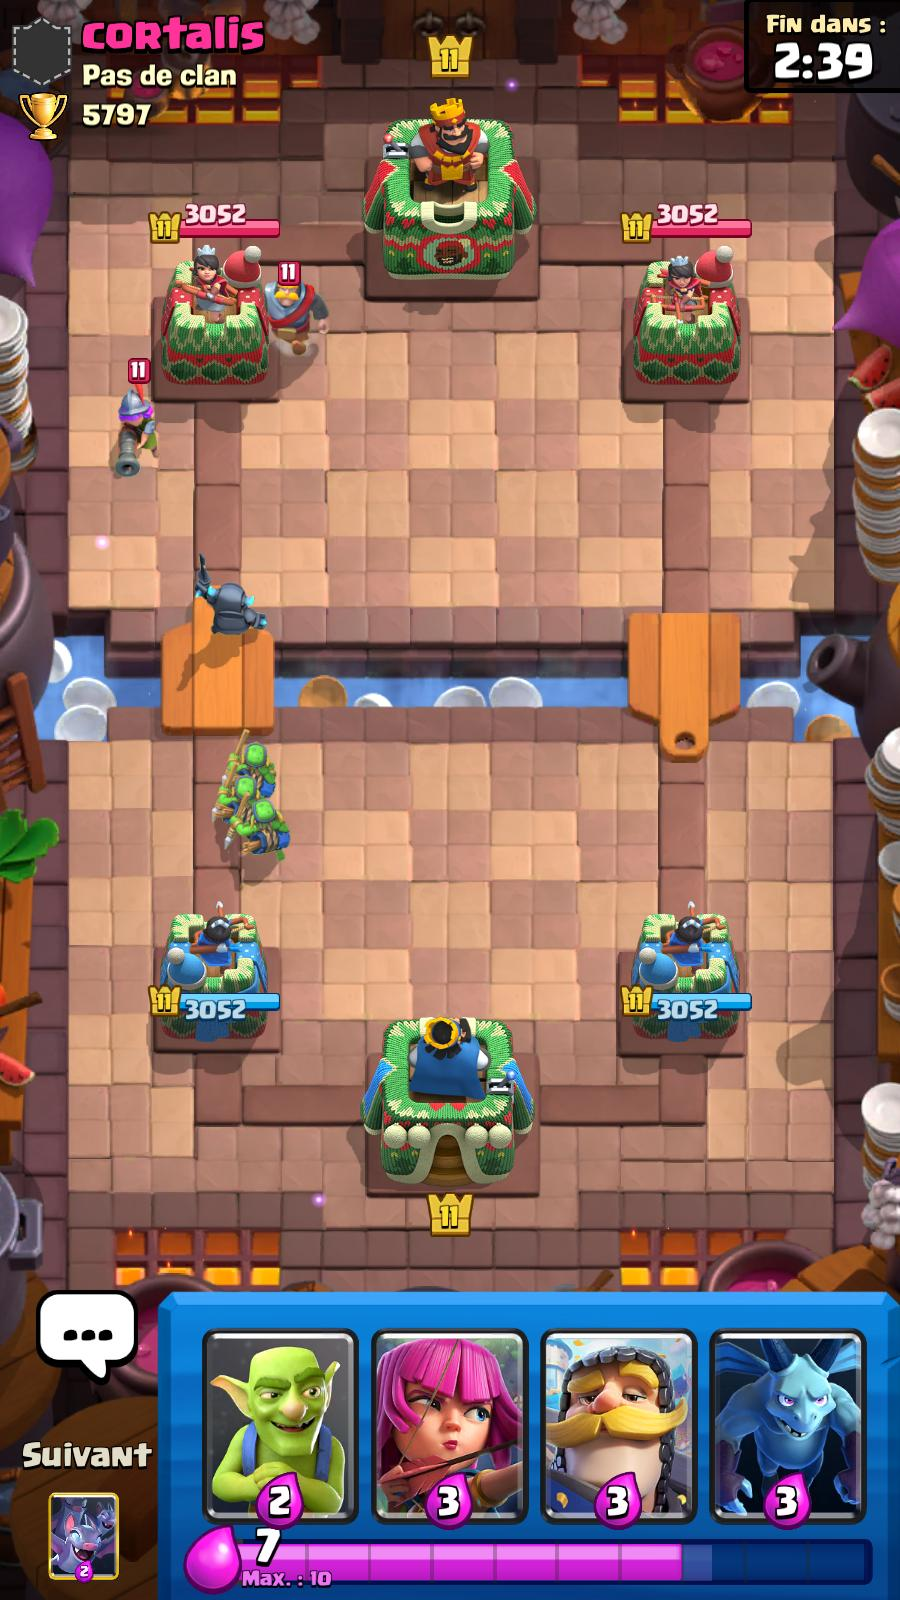chevalier: (245, 249, 343, 365)
gobelin_lances: (221, 722, 292, 803), (225, 807, 308, 875), (205, 765, 269, 831)
mini_PEKKA: (186, 564, 274, 645)
mousquetaire: (105, 359, 170, 488)
